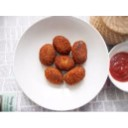cutlet: (38, 43, 56, 67), (72, 41, 90, 64), (52, 34, 71, 54), (46, 67, 64, 84), (54, 54, 73, 70), (66, 69, 86, 84)
